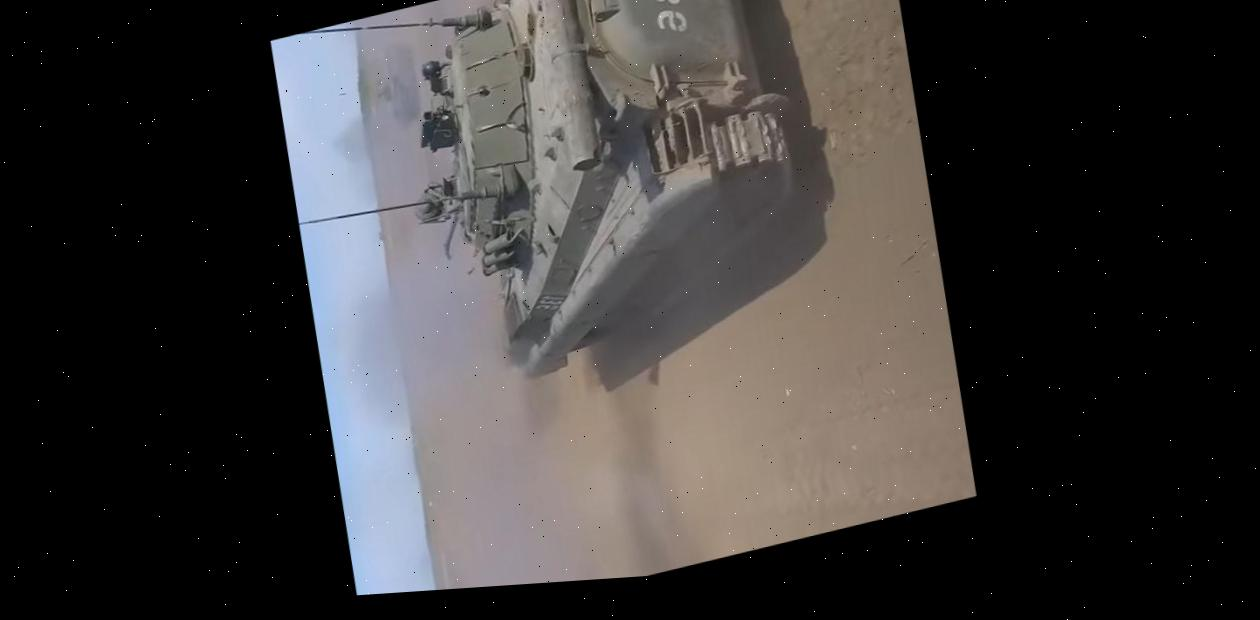tank: (400, 0, 852, 415), (367, 34, 435, 145)
